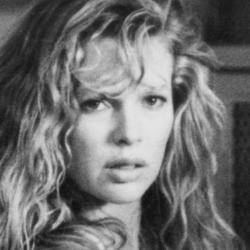face: (7, 4, 229, 238)
